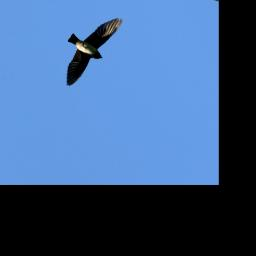Swallow: (45, 15, 142, 86)
